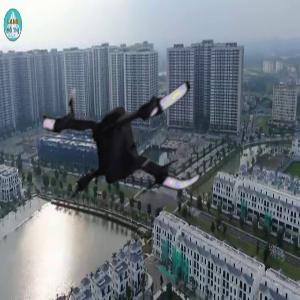drone: (25, 48, 213, 236)
